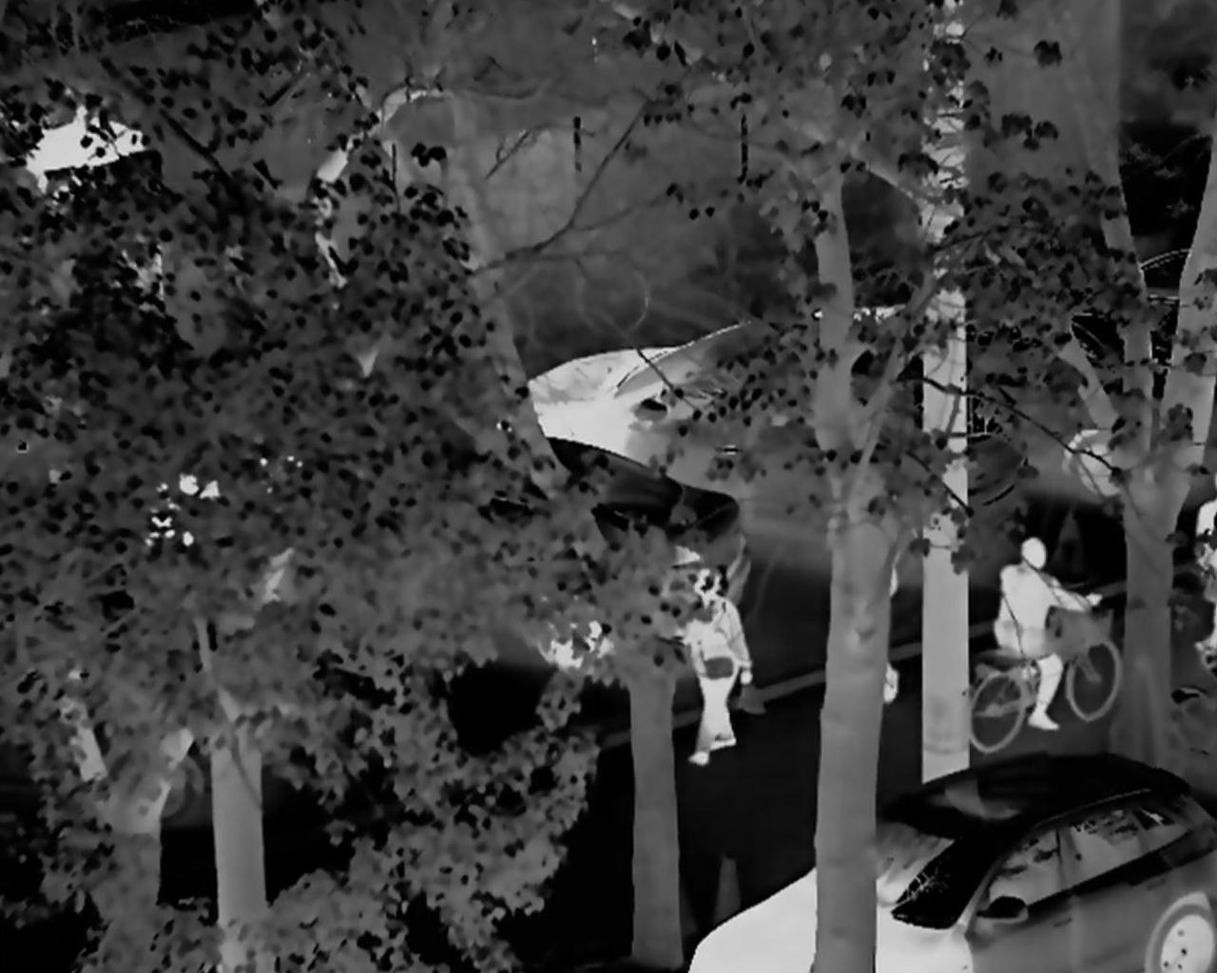person: (990, 532, 1102, 748), (673, 566, 758, 762)
